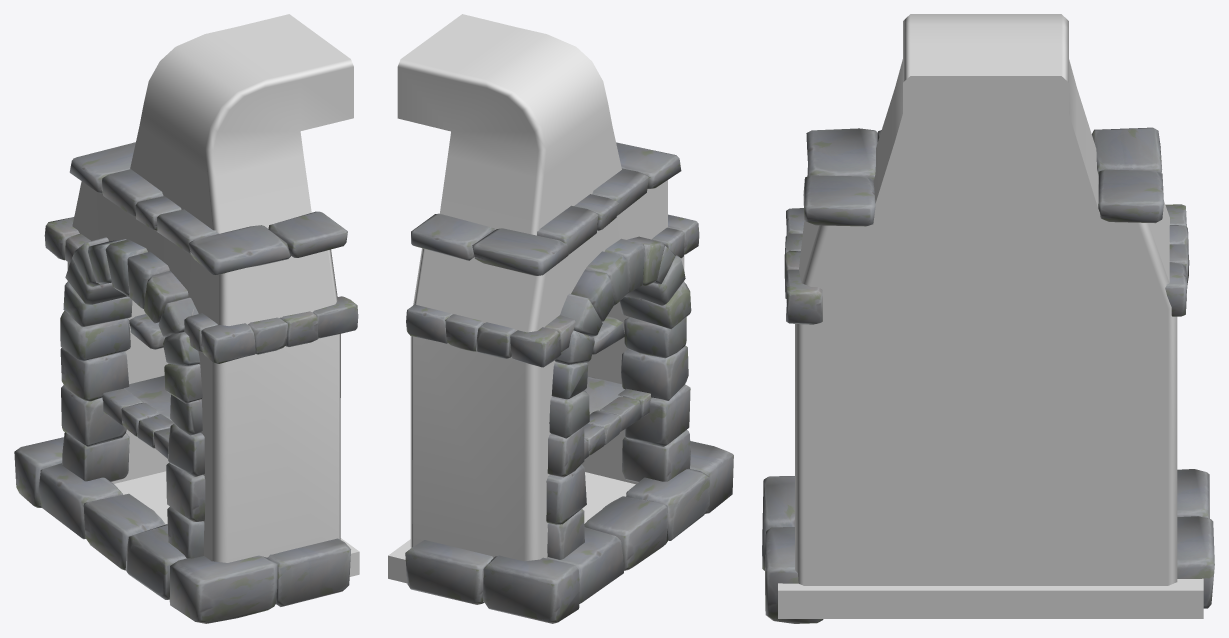
The model's file is SM_General_Store_Oven.fbx.
3 renders of one model, left to right at view 1: azimuth 30°, elevation 25°; view 2: azimuth 150°, elevation 25°; view 3: azimuth 270°, elevation 25°, orthographic. The views are drawn at different scales.
Parts seen in each view (by area): view 1: SM_General_Store_Oven_LOD0; view 2: SM_General_Store_Oven_LOD0; view 3: SM_General_Store_Oven_LOD0.
Boxes of the visible parts, box(x1,y1,x2,y2) form: SM_General_Store_Oven_LOD0: box(14, 14, 359, 623); SM_General_Store_Oven_LOD0: box(388, 14, 733, 623); SM_General_Store_Oven_LOD0: box(762, 14, 1214, 623).
Size of what is drawn, in the model's own units: 1.36 by 2.85 by 2.
